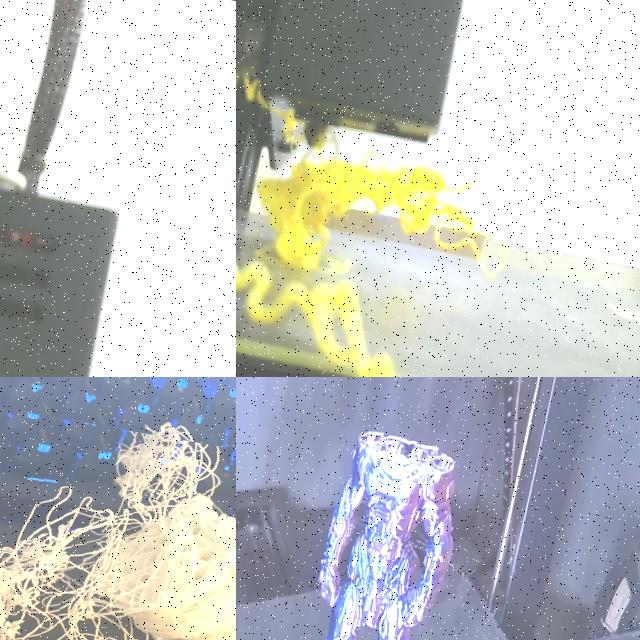spaghetti: (0, 404, 236, 640), (258, 150, 506, 275), (236, 260, 395, 377)
